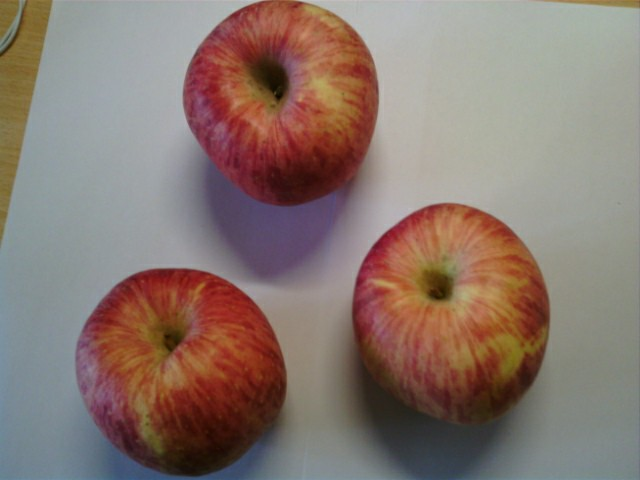normal_apple: (77, 269, 288, 480), (354, 204, 553, 425), (183, 1, 380, 210)
